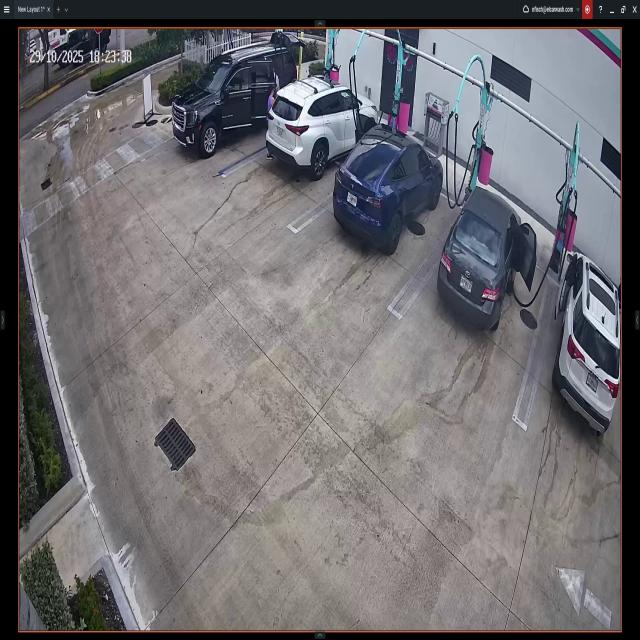Car: (334, 122, 443, 249), (439, 185, 535, 328), (174, 46, 296, 152), (559, 249, 621, 429), (268, 75, 378, 174)
